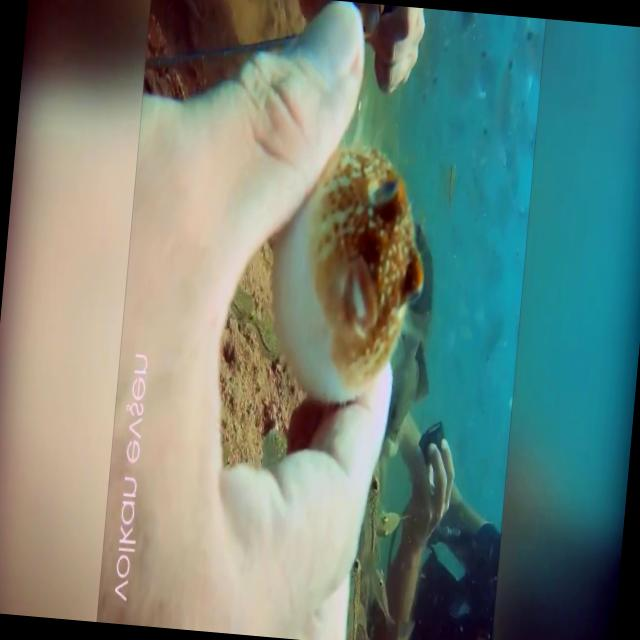Balon Baligi: (261, 142, 433, 410), (367, 568, 398, 628), (360, 474, 380, 560), (342, 558, 362, 640), (248, 317, 280, 358), (227, 286, 254, 322)
